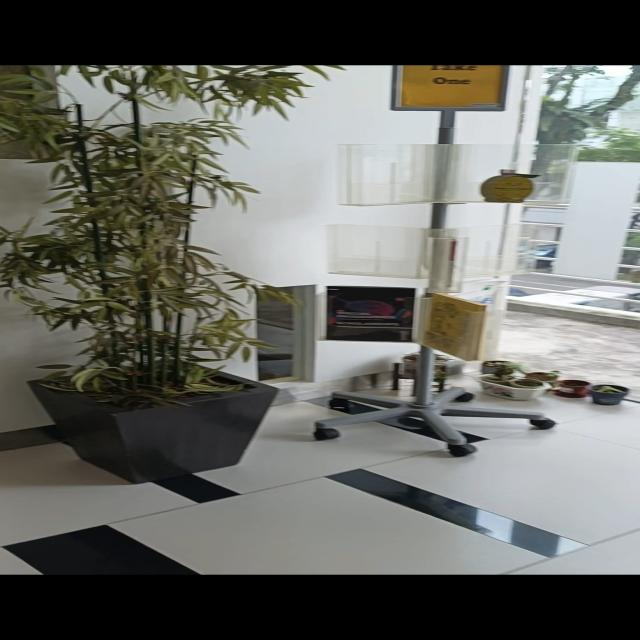Pot: (25, 358, 279, 485)
